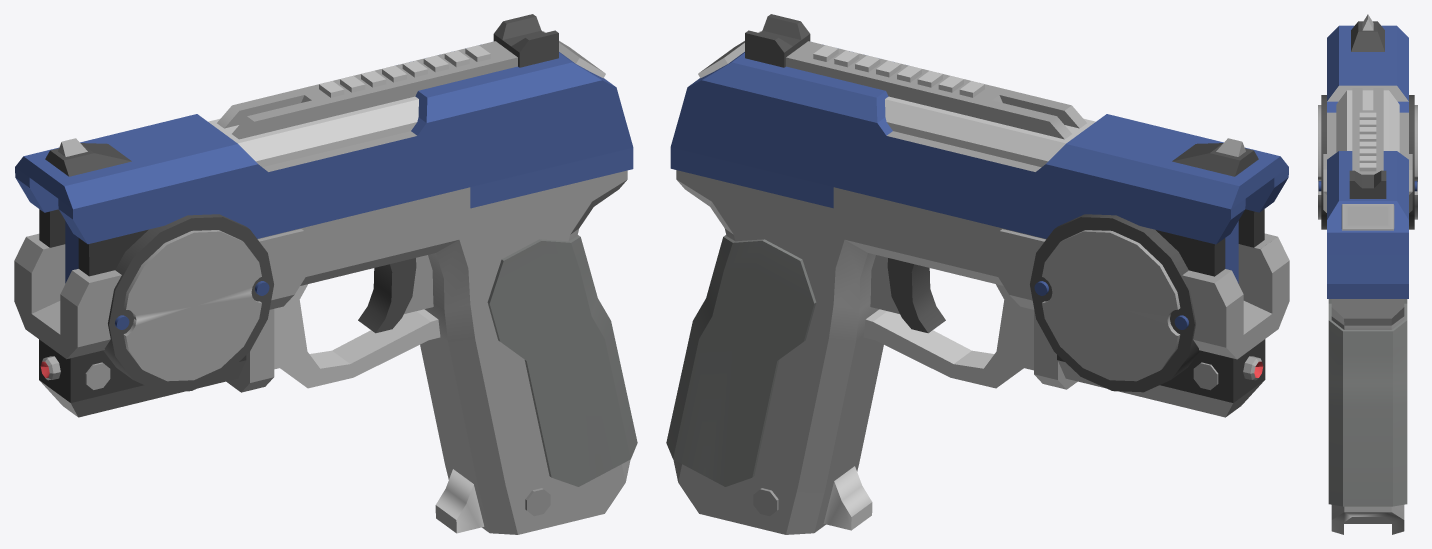
Rendered from Gun01.fbx.
3 views of the same model, side by side, from view 1: azimuth 30°, elevation 25°; view 2: azimuth 150°, elevation 25°; view 3: azimuth 270°, elevation 25° (orthographic). The views are drawn at different scales.
Visible parts, largest first — view 1: Gun01; view 2: Gun01; view 3: Gun01.
Part boxes in pixels (x1,y1,x2,y2): Gun01: [14, 14, 637, 534]; Gun01: [666, 14, 1289, 534]; Gun01: [1318, 14, 1417, 534].
Size of the model in its own units: 20.27 by 16.26 by 4.31.
Materials: 1 (1 with a texture image).
